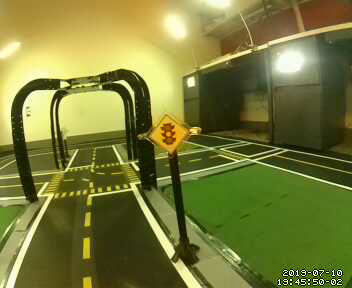Traffic light sign: (146, 112, 189, 152)
